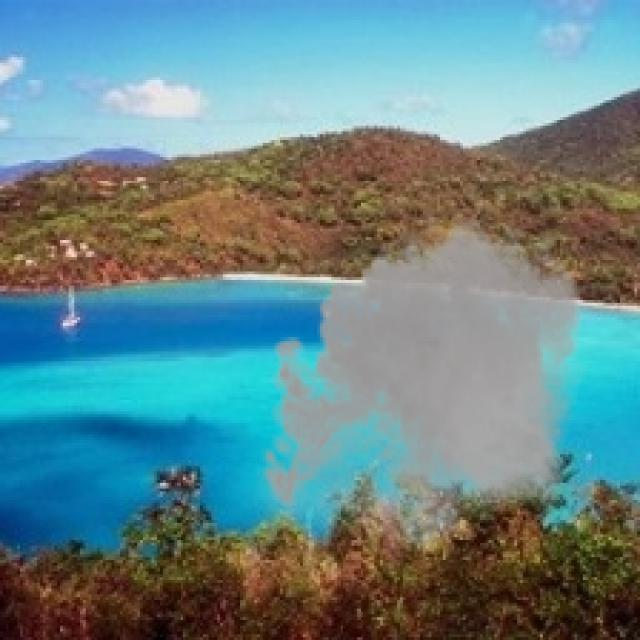Smoke: (252, 205, 594, 566)
